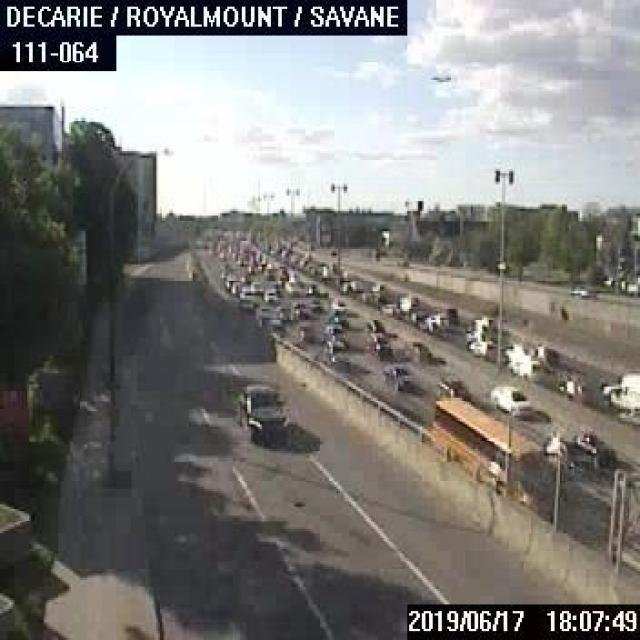bus: (432, 395, 556, 516)
vehicle: (229, 380, 291, 438), (595, 367, 638, 422), (487, 382, 532, 417), (504, 342, 551, 373), (572, 428, 614, 462), (546, 438, 582, 467), (435, 372, 471, 398), (549, 369, 580, 395), (464, 314, 496, 339), (381, 364, 413, 389), (365, 331, 391, 356), (465, 338, 495, 356), (404, 340, 431, 360), (322, 333, 347, 352), (435, 304, 456, 325), (397, 292, 418, 312), (321, 355, 349, 370), (325, 308, 348, 326), (294, 323, 311, 340), (274, 304, 290, 320), (291, 300, 306, 316), (365, 318, 383, 331), (330, 296, 348, 309), (303, 281, 319, 294), (380, 302, 397, 314), (284, 278, 299, 291), (261, 288, 277, 300), (370, 280, 386, 292), (307, 297, 321, 310), (250, 278, 262, 292), (360, 290, 373, 302), (263, 264, 273, 278), (350, 277, 361, 289), (245, 263, 255, 273)
